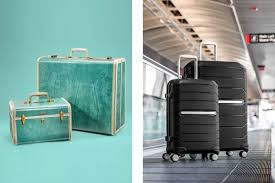suitcase: (37, 47, 127, 136), (182, 41, 248, 157), (161, 55, 220, 162), (7, 93, 72, 144)
